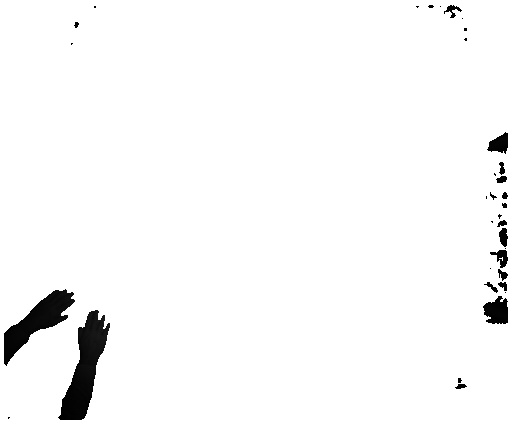hand: (27, 288, 77, 335), (78, 308, 111, 366)
